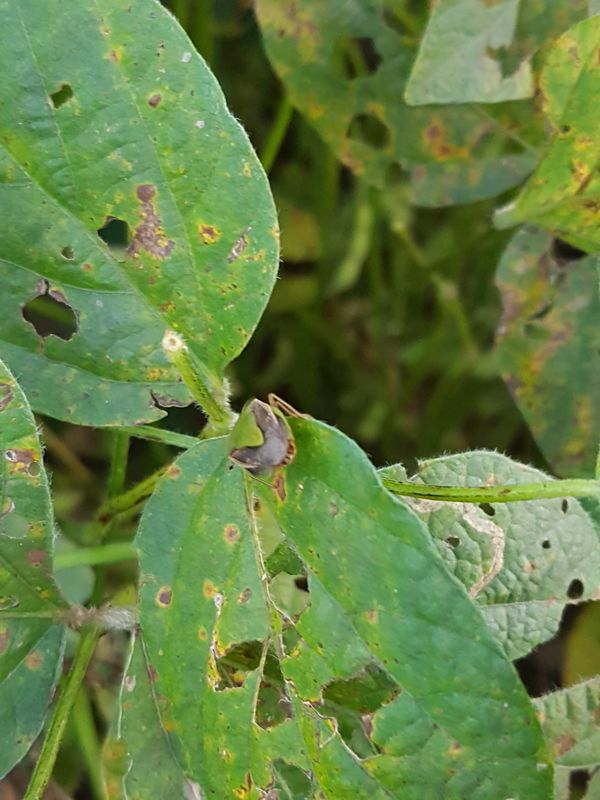Edessa_meditabunda: (204, 380, 324, 501)
